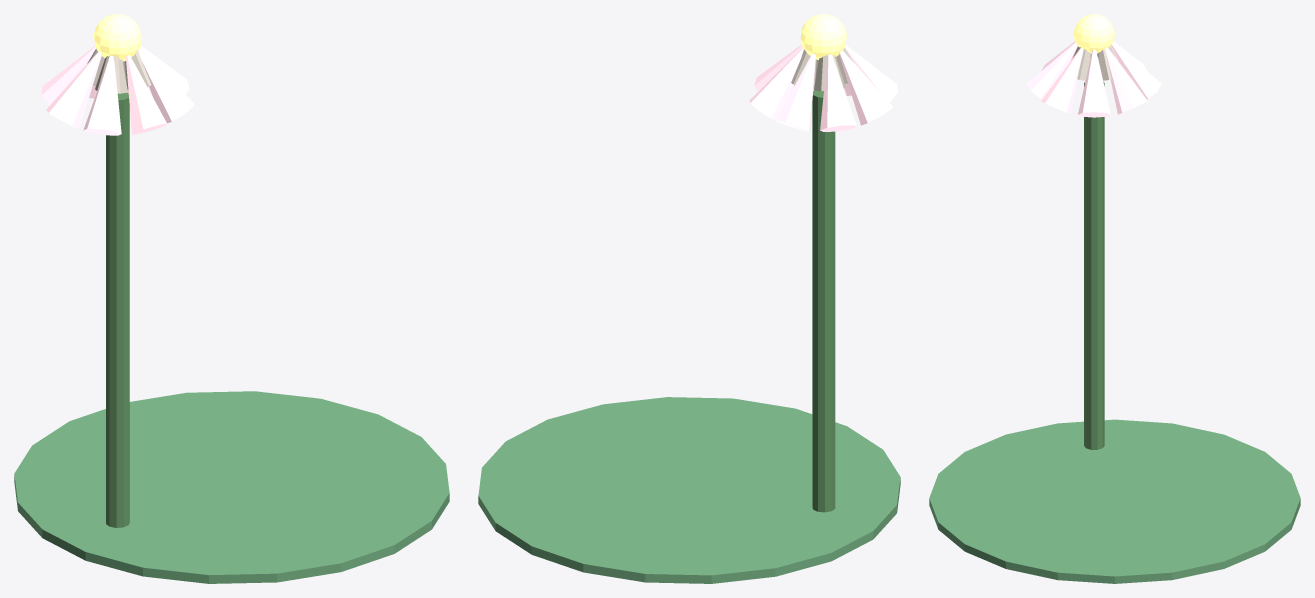
The model's file is lotus.glb.
3 renders of one model, left to right at view 1: azimuth 30°, elevation 25°; view 2: azimuth 150°, elevation 25°; view 3: azimuth 270°, elevation 25°, orthographic. The views are drawn at different scales.
Parts seen in each view (by area): view 1: lotus; view 2: lotus; view 3: lotus.
Boxes of the visible parts, x1,y1,x2,y2 form: lotus: (14,14,449,583); lotus: (478,14,900,583); lotus: (929,14,1300,583).
Size of the model in its own units: 0.9138 by 1.18 by 0.9.
